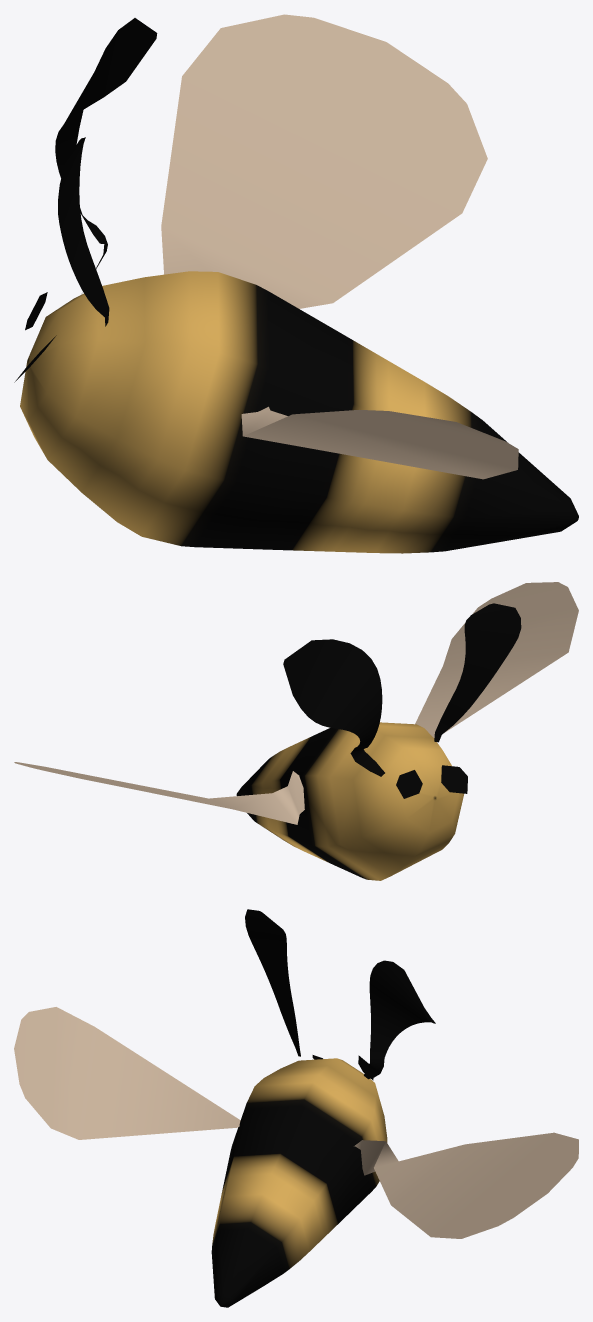
The model's file is beeFlying.glb.
3 renders of one model, top to bottom at view 1: azimuth 30°, elevation 25°; view 2: azimuth 150°, elevation 25°; view 3: azimuth 270°, elevation 25°, orthographic. The views are drawn at different scales.
Parts seen in each view (by area): view 1: Bee; view 2: Bee; view 3: Bee.
Boxes of the visible parts, x1,y1,x2,y2 form: Bee: (14, 14, 578, 553); Bee: (14, 582, 578, 880); Bee: (14, 909, 578, 1307).
Size of the model in its own units: 0.5811 by 0.4256 by 0.7912.
